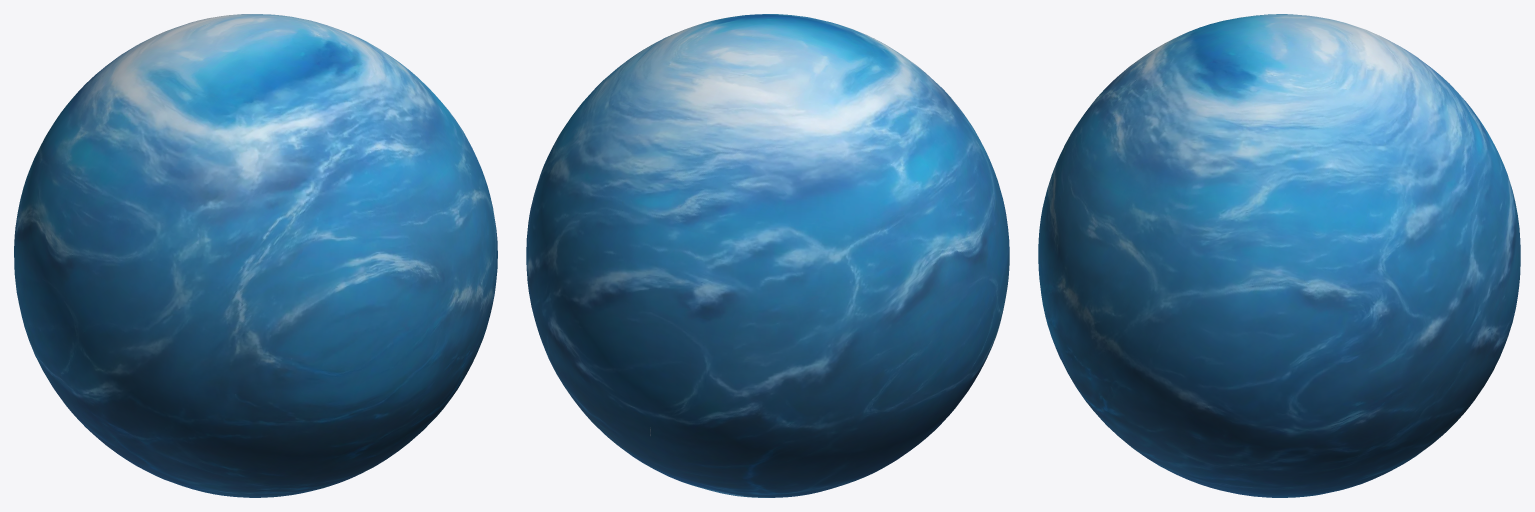
The model's file is water_planet_3.glb.
3 renders of one model, left to right at view 1: azimuth 30°, elevation 25°; view 2: azimuth 150°, elevation 25°; view 3: azimuth 270°, elevation 25°, orthographic.
Visible parts, largest first — view 1: Mesh_0.046; view 2: Mesh_0.046; view 3: Mesh_0.046.
Part boxes in pixels (x1,y1,x2,y2): Mesh_0.046: [14, 14, 497, 497]; Mesh_0.046: [526, 14, 1009, 497]; Mesh_0.046: [1038, 14, 1520, 497].
Size of the model in its own units: 2 by 2 by 2.
Materials: 1 (1 with a texture image).
